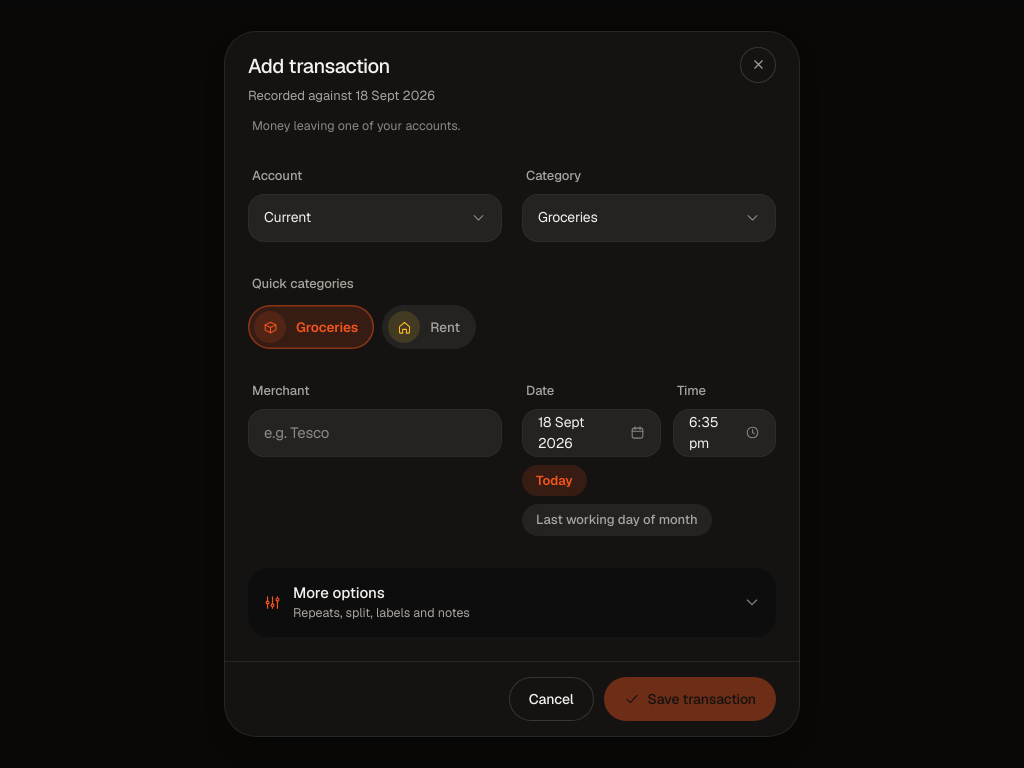
Test case: editing a transaction › offers the repeat option when adding, as before
The width and height of the screenshot is (1024, 768).
(page scrolled)
Click the button "More options Repeats, split, labels and notes" at (339, 592), box [248,568,776,637]
(page scrolled)
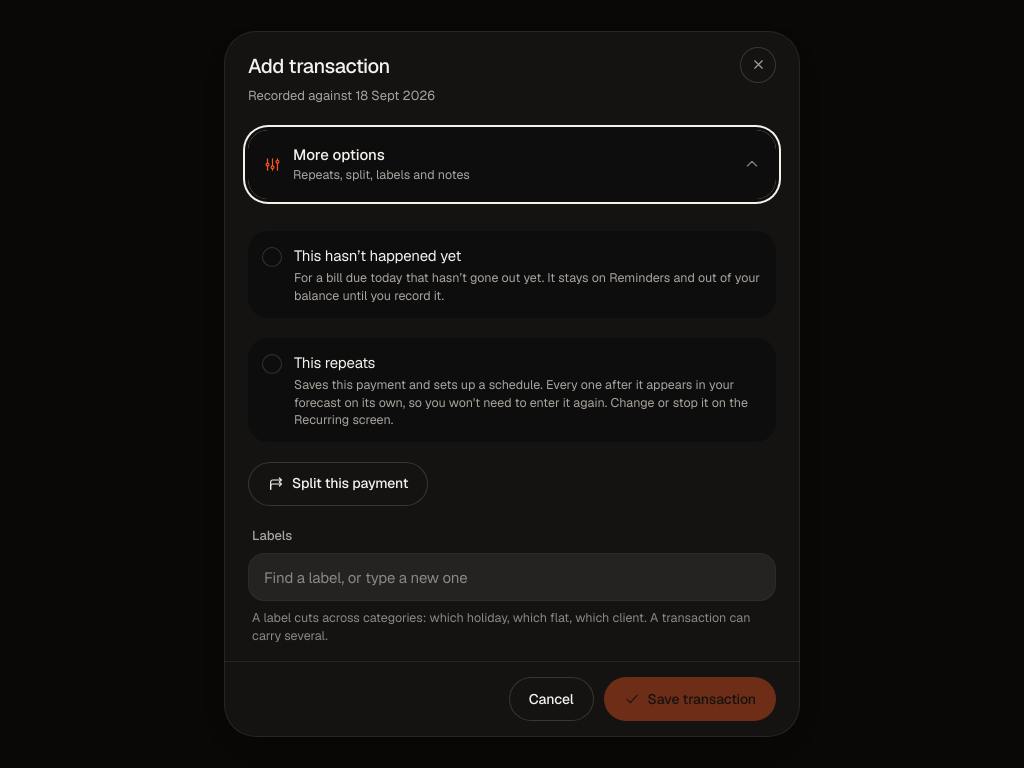
Now the checkbox labelled "This repeats" is shown, box [248,338,776,442]
